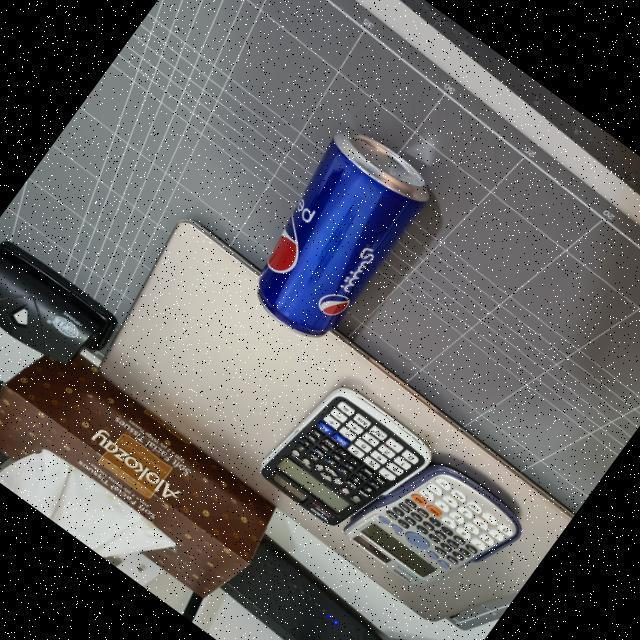can: (220, 112, 446, 354)
